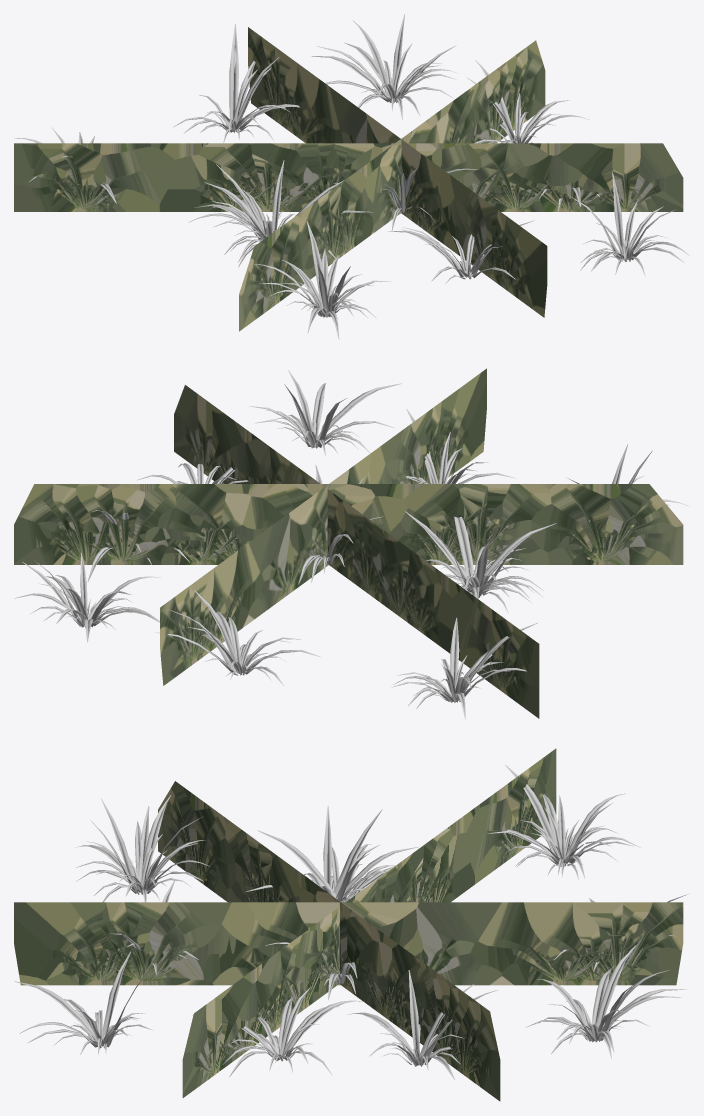
The model's file is PW_Grass_01_04.fbx.
3 views of the same model, one above another, from view 1: azimuth 30°, elevation 25°; view 2: azimuth 150°, elevation 25°; view 3: azimuth 270°, elevation 25° (orthographic). The views are drawn at different scales.
Visible parts, largest first — view 1: Billboard, LOD0; view 2: Billboard, LOD0; view 3: Billboard, LOD0.
Part boxes in pixels (<box>): Billboard: <box>14,27,683,331</box>; LOD0: <box>14,14,689,339</box>; Billboard: <box>14,368,683,718</box>; LOD0: <box>14,370,689,719</box>; Billboard: <box>14,748,683,1101</box>; LOD0: <box>14,765,689,1079</box>.
Size of what is drawn, in the model's own units: 77.2 by 11.18 by 79.28.
